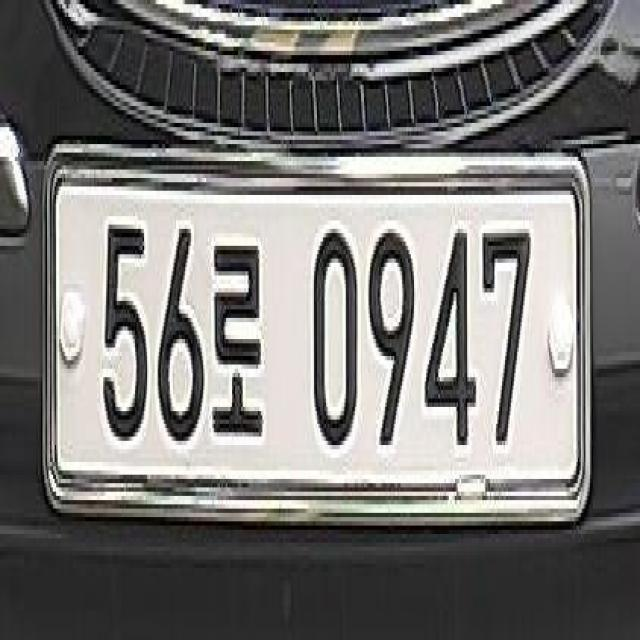0: (307, 211, 360, 448)
4: (422, 212, 476, 458)
5: (94, 210, 150, 444)
6: (154, 209, 208, 446)
7: (478, 210, 535, 454)
9: (362, 213, 418, 454)
license_plate: (34, 120, 594, 536)
lo: (211, 212, 266, 452)
